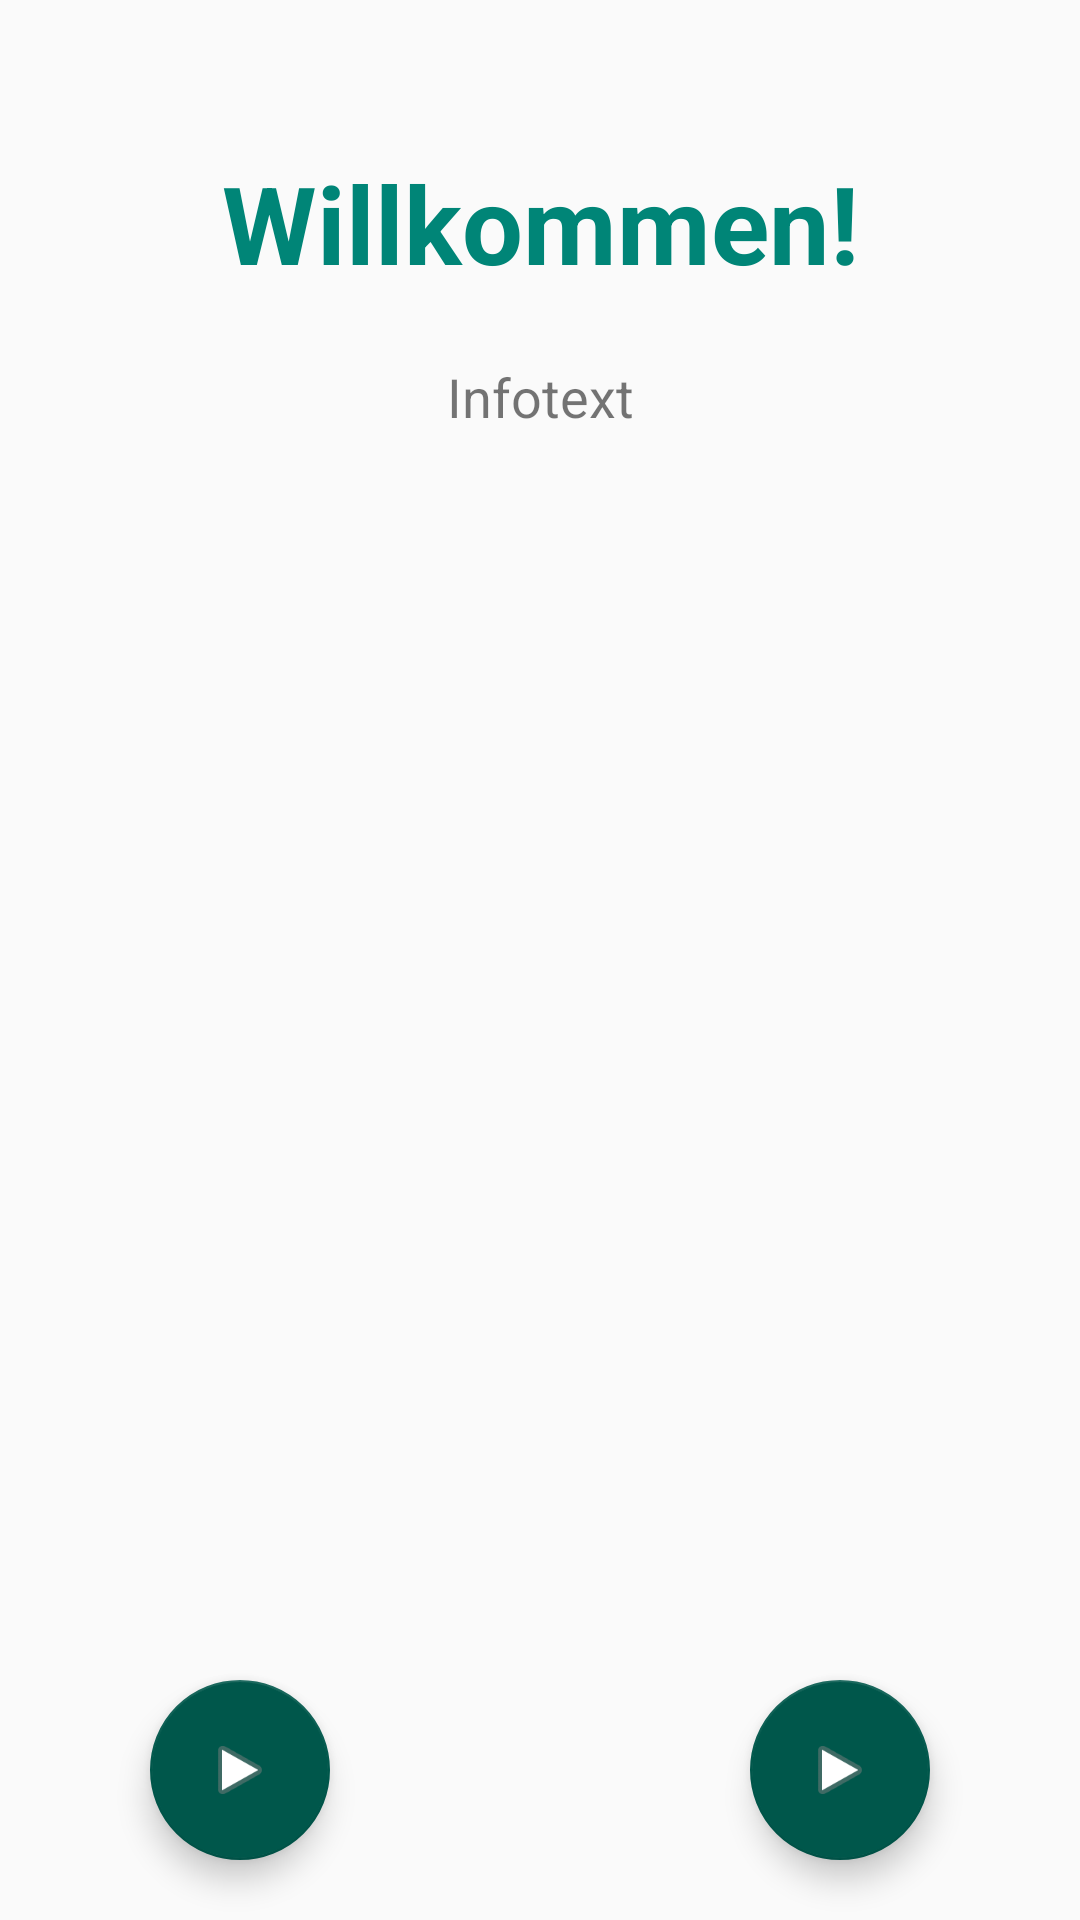

Point at icon controls on the screen. Image size 1080×1920, points as point (x, y).
play: point (240, 1770), point (840, 1770)
